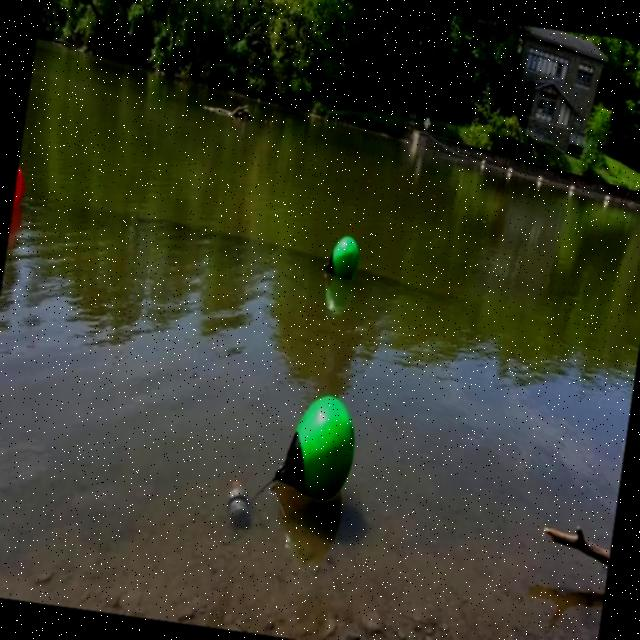buoy: (274, 386, 362, 504), (324, 232, 360, 284), (12, 160, 29, 212)
